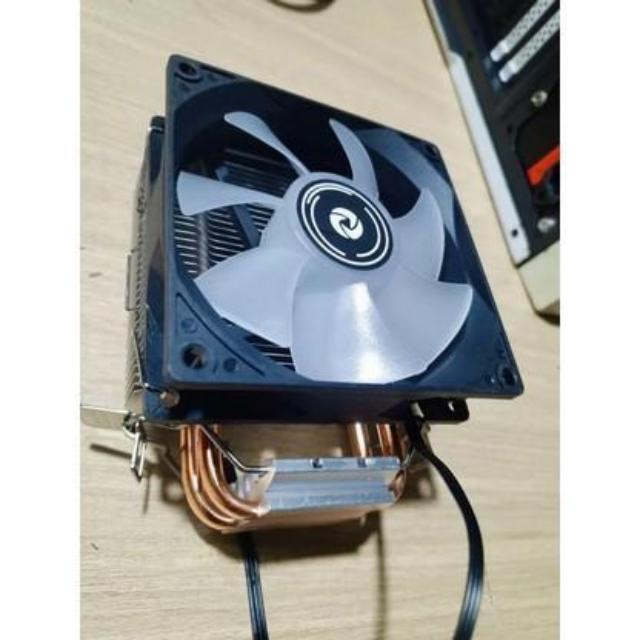CPU_Fan: (119, 54, 516, 551)
